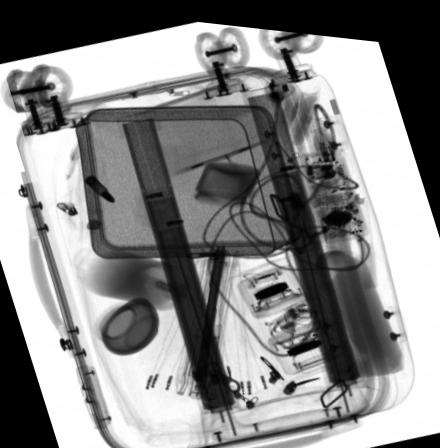Bullet: (83, 173, 114, 200)
